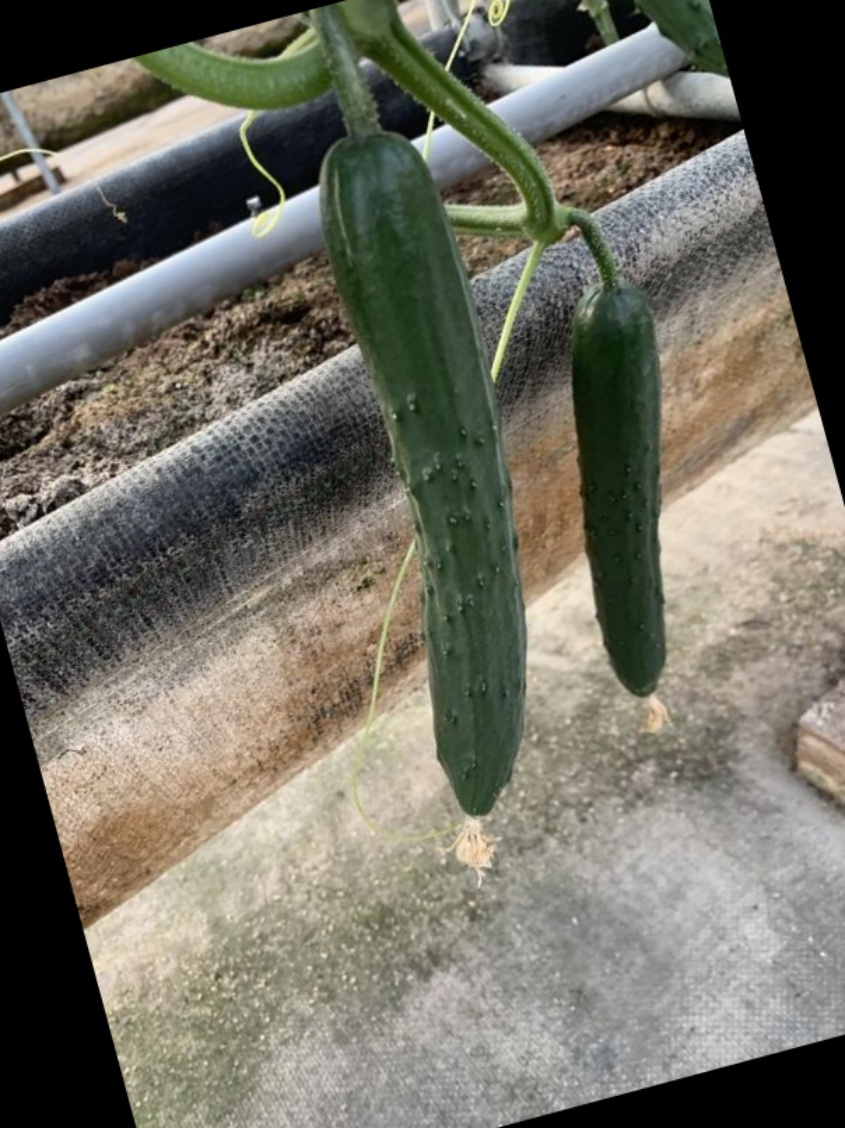mature: (565, 276, 674, 712)
